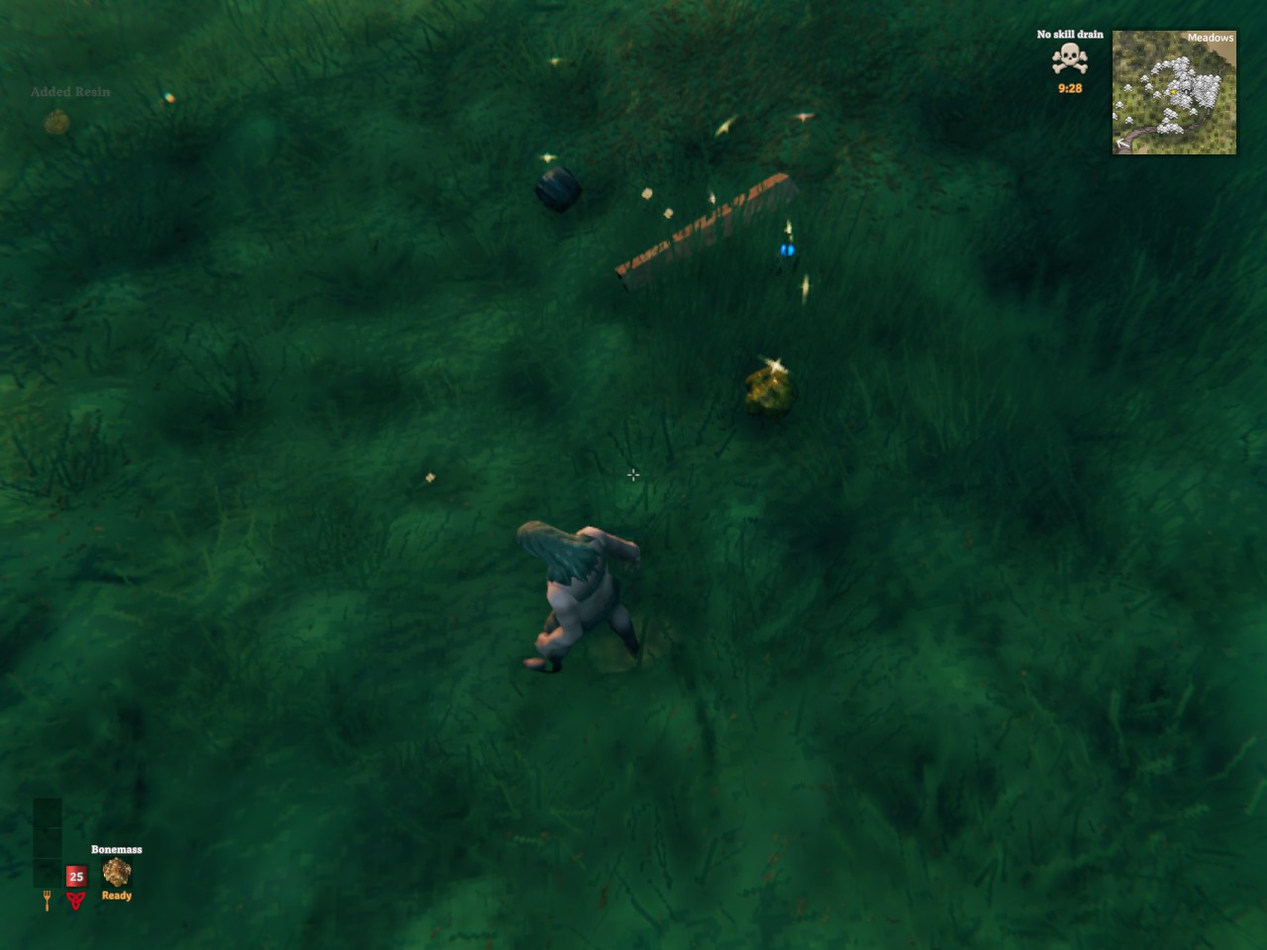Resin: (745, 357, 795, 416)
Stone: (535, 166, 582, 213)
Wood: (615, 174, 797, 289)
